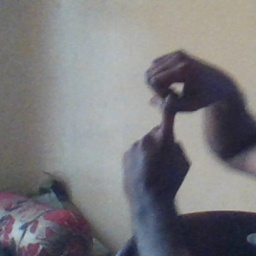Q: (117, 47, 218, 191)
